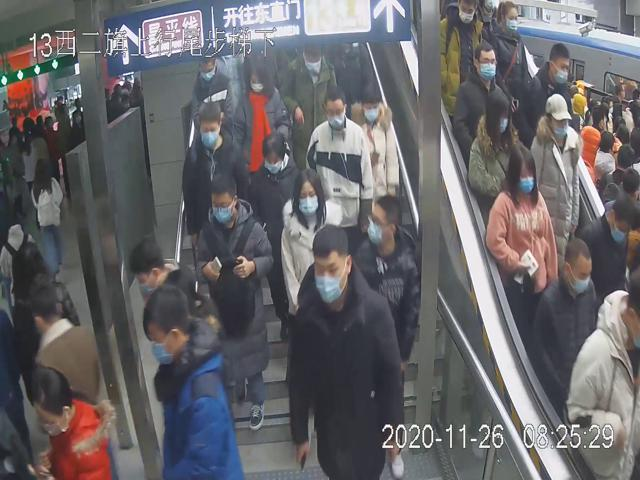person: (286, 223, 408, 479), (195, 168, 276, 430), (532, 233, 605, 405), (357, 194, 423, 371), (485, 142, 554, 300), (277, 164, 345, 321), (306, 86, 372, 226), (182, 100, 245, 223), (234, 49, 291, 173), (468, 90, 522, 215), (280, 40, 335, 160), (450, 38, 506, 153), (349, 84, 402, 204), (246, 128, 298, 242)
